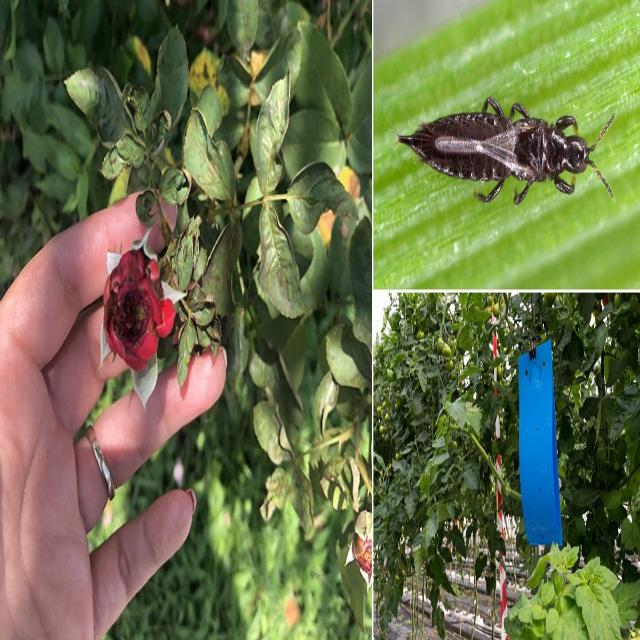Thrip-Adult-: (389, 78, 617, 223)
